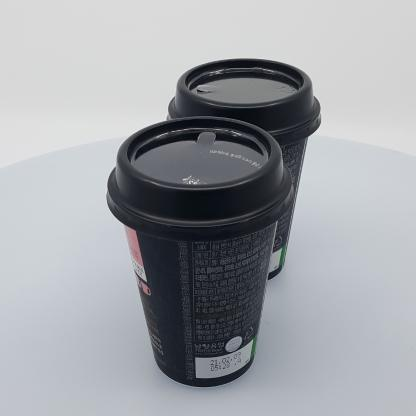----------------: (106, 116, 295, 389)
